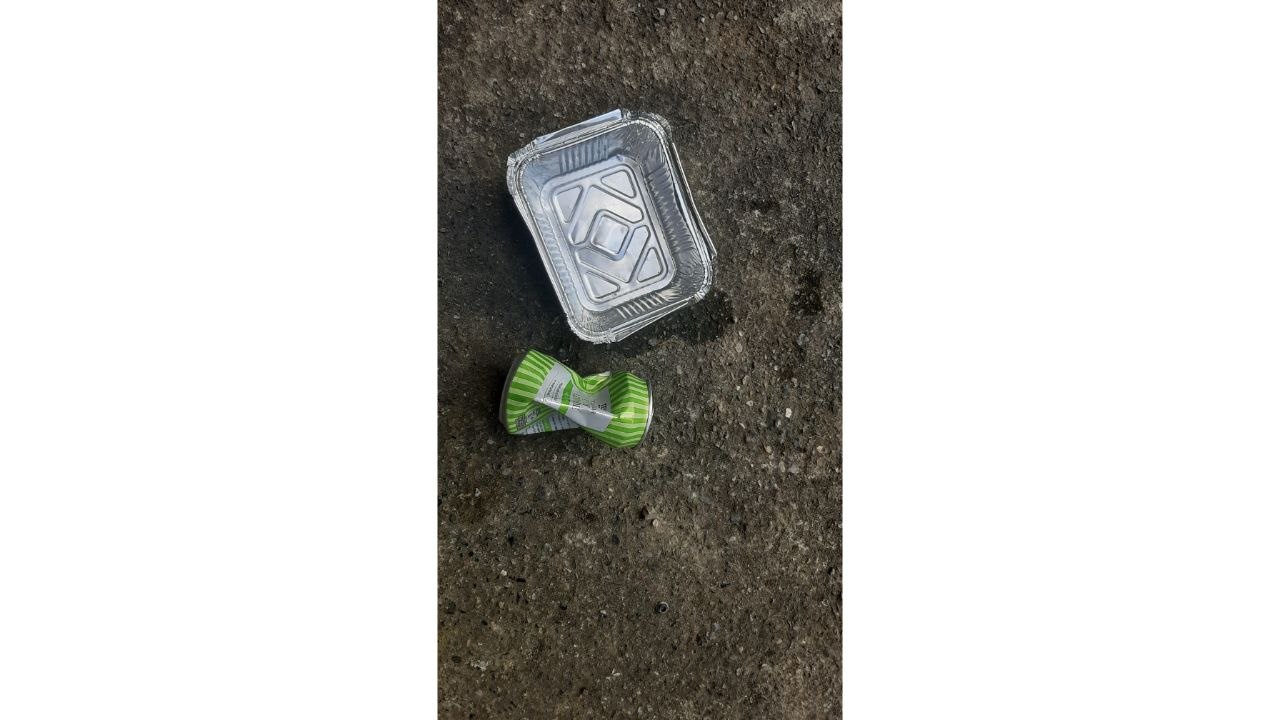Can: (491, 340, 666, 460)
